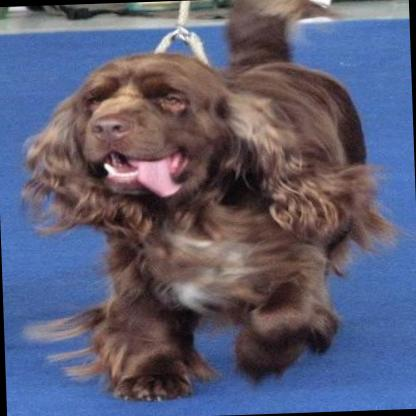Sussex_spaniel: (13, 42, 398, 404)
